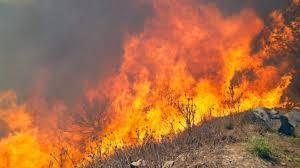fire: (40, 4, 300, 153)
